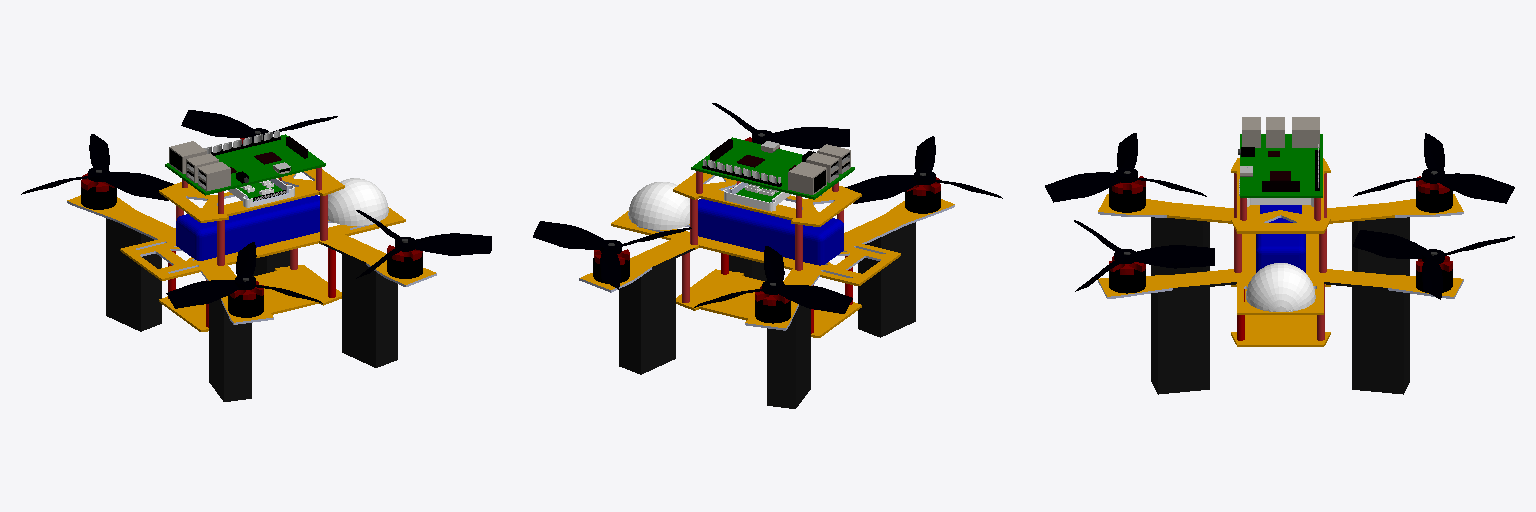
The robot description file, URDF, robot "quadrotor_full":
<?xml version="1.0" ?>
<!-- =================================================================================== -->
<!-- |    This document was autogenerated by xacro from quadrotor.urdf.xacro           | -->
<!-- |    EDITING THIS FILE BY HAND IS NOT RECOMMENDED                                 | -->
<!-- =================================================================================== -->
<robot name="quadrotor_full" xmlns:xacro="http://wiki.ros.org/xacro">
  <!-- Included URDF Files -->
  <!-- Bais link of quadrotor-->
  <link name="base_Link">
    <inertial>
      <origin rpy="1.5708 0 1.5708" xyz="0 0 -0.052"/>
      <mass value="0.7"/>
      <inertia ixx="0.0027947" ixy="0" ixz="0" iyy="0.00278554" iyz="0" izz="0.004656638"/>
    </inertial>
    <visual>
      <origin rpy="1.5708 0 1.5708" xyz="0 0 -0.052"/>
      <geometry>
        <mesh filename="package://quad_description/meshes/quadrotor/base_Link.dae"/>
      </geometry>
    </visual>
    <collision>
      <origin rpy="0 0 0" xyz="0 0 0"/>
      <geometry>
        <mesh filename="package://quad_description/meshes/quadrotor/base_Link.STL"/>
      </geometry>
    </collision>
  </link>
  <!-- Front Right Prop -->
  <link name="FR_Link">
    <inertial>
      <origin rpy="1.5708 0 -0.523599" xyz="-0.003 0 0"/>
      <mass value="0.007"/>
      <inertia ixx="0.00002353" ixy="0" ixz="0" iyy="0.00002353" iyz="0" izz="0.00004706"/>
    </inertial>
    <visual>
      <origin rpy="1.57 0 -0.523599" xyz="-0.003 0 0"/>
      <geometry>
        <mesh filename="package://quad_description/meshes/quadrotor/FR_Link.dae"/>
      </geometry>
    </visual>
    <collision>
      <origin rpy="0 0 0" xyz="0 0 0"/>
      <geometry>
        <mesh filename="package://quad_description/meshes/quadrotor/FR_Link.STL"/>
      </geometry>
    </collision>
  </link>
  <!-- Front Right Joint -->
  <joint name="FR_Joint" type="continuous">
    <origin rpy="0 0 0" xyz="0.0714 -0.1153345227 0.026"/>
    <parent link="base_Link"/>
    <child link="FR_Link"/>
    <axis xyz="0 0 1"/>
  </joint>
  <!-- Back Left Prop -->
  <link name="BL_Link">
    <inertial>
      <origin rpy="1.5708 0 1.0472" xyz="-0.001 -0.003 0"/>
      <mass value="0.007"/>
      <inertia ixx="0.00002353" ixy="0" ixz="0" iyy="0.00002353" iyz="0" izz="0.00004706"/>
    </inertial>
    <visual>
      <origin rpy="1.5708 0 1.0472" xyz="-0.001 -0.003 0"/>
      <geometry>
        <mesh filename="package://quad_description/meshes/quadrotor/BL_Link.dae"/>
      </geometry>
    </visual>
    <collision>
      <origin rpy="0 -1.5708 0" xyz="0 0.003 0"/>
      <geometry>
        <mesh filename="package://quad_description/meshes/quadrotor/BL_Link.STL"/>
      </geometry>
    </collision>
  </link>
  <!-- Back Left Joint -->
  <joint name="BL_Joint" type="continuous">
    <origin rpy="0 0 0" xyz="-0.07161128 0.1148345227 0.026"/>
    <parent link="base_Link"/>
    <child link="BL_Link"/>
    <axis xyz="0 0 1"/>
  </joint>
  <!-- Back Right Prop -->
  <link name="BR_Link">
    <inertial>
      <origin rpy="1.5708 0 1.0472" xyz="-0.002 -0.003 0"/>
      <mass value="0.007"/>
      <inertia ixx="0.00002353" ixy="0" ixz="0" iyy="0.00002353" iyz="0" izz="0.00004706"/>
    </inertial>
    <visual>
      <origin rpy="1.5708 0 1.0472" xyz="-0.002 -0.003 0"/>
      <geometry>
        <mesh filename="package://quad_description/meshes/quadrotor/BR_Link.dae"/>
      </geometry>
    </visual>
    <collision>
      <origin rpy="0 0 0" xyz="0 0 0"/>
      <geometry>
        <mesh filename="package://quad_description/meshes/quadrotor/BR_Link.STL"/>
      </geometry>
    </collision>
  </link>
  <!-- Back Right Joint -->
  <joint name="BR_Joint" type="continuous">
    <origin rpy="0 0 0" xyz="-0.0716112686755679 -0.115430836109892 0.026"/>
    <parent link="base_Link"/>
    <child link="BR_Link"/>
    <axis xyz="0 0 1"/>
  </joint>
  <!-- Front Left Prop -->
  <link name="FL_Link">
    <inertial>
      <origin rpy="1.5708 0 0" xyz="-0.002 -0.001 0"/>
      <mass value="0.007"/>
      <inertia ixx="0.00002353" ixy="0" ixz="0" iyy="0.00002353" iyz="0" izz="0.00004706"/>
    </inertial>
    <visual>
      <origin rpy="1.5708 0 0" xyz="-0.002 -0.001 0"/>
      <geometry>
        <mesh filename="package://quad_description/meshes/quadrotor/FL_Link.dae"/>
      </geometry>
    </visual>
    <collision>
      <origin rpy="1.5708 0 0" xyz="-0.002 -0.001 0"/>
      <geometry>
        <mesh filename="package://quad_description/meshes/quadrotor/FL_Link.STL"/>
      </geometry>
    </collision>
  </link>
  <!-- Front Left Prop -->
  <joint name="FL_Joint" type="continuous">
    <origin rpy="0 0 0" xyz="0.0712 0.114834 0.026"/>
    <parent link="base_Link"/>
    <child link="FL_Link"/>
    <axis xyz="0 0 1"/>
  </joint>
  <!-- IMU, Baro, Magnetic, GPS, Groundtruth sensors -->
  <gazebo>
    <plugin filename="libhector_gazebo_ros_imu.so" name="quadrotor_imu_sim">
      <alwaysOn>true</alwaysOn>
      <updateRate>100.0</updateRate>
      <bodyName>base_Link</bodyName>
      <frameId>quadrotor_base_Link</frameId>
      <topicName>/quadrotor_1/imu</topicName>
      <xyzOffset>0 0 0</xyzOffset>
      <rpyOffset>0 0 0</rpyOffset>
      <gaussianNoise>0</gaussianNoise>
      <!-- deprecated -->
      <accelDrift>0.5 0.5 0.5</accelDrift>
      <accelGaussianNoise>0.35 0.35 0.3</accelGaussianNoise>
      <rateDrift>0.0 0.0 0.0</rateDrift>
      <rateGaussianNoise>0.00 0.00 0.00</rateGaussianNoise>
      <headingDrift>0.0</headingDrift>
      <headingGaussianNoise>0.00</headingGaussianNoise>
    </plugin>
    <plugin filename="libhector_gazebo_ros_baro.so" name="quadrotor_baro_sim">
      <alwaysOn>true</alwaysOn>
      <updateRate>10.0</updateRate>
      <bodyName>base_Link</bodyName>
      <topicName>/quadrotor_1/pressure_height</topicName>
      <altimeterTopicName>altimeter</altimeterTopicName>
      <offset>0</offset>
      <drift>0.1</drift>
      <gaussianNoise>0.5</gaussianNoise>
    </plugin>
    <plugin filename="libhector_gazebo_ros_magnetic.so" name="quadrotor_magnetic_sim">
      <alwaysOn>true</alwaysOn>
      <updateRate>10.0</updateRate>
      <bodyName>base_Link</bodyName>
      <topicName>/quadrotor_1/magnetic</topicName>
      <offset>0 0 0</offset>
      <drift>0.0 0.0 0.0</drift>
      <gaussianNoise>1.3e-2 1.3e-2 1.3e-2</gaussianNoise>
    </plugin>
    <plugin filename="libhector_gazebo_ros_gps.so" name="quadrotor_gps_sim">
      <alwaysOn>true</alwaysOn>
      <updateRate>4.0</updateRate>
      <bodyName>base_Link</bodyName>
      <topicName>/quadrotor_1/fix</topicName>
      <velocityTopicName>/quadrotor_1/fix_velocity</velocityTopicName>
      <drift>5.0 5.0 5.0</drift>
      <gaussianNoise>0.1 0.1 0.1</gaussianNoise>
      <velocityDrift>0 0 0</velocityDrift>
      <velocityGaussianNoise>0.1 0.1 0.1</velocityGaussianNoise>
    </plugin>
    <plugin filename="libgazebo_ros_p3d.so" name="quadrotor_groundtruth_sim">
      <alwaysOn>true</alwaysOn>
      <updateRate>100.0</updateRate>
      <bodyName>base_Link</bodyName>
      <topicName>/quadrotor_1/ground_truth/state</topicName>
      <gaussianNoise>0.0</gaussianNoise>
      <frameName>map</frameName>
    </plugin>
  </gazebo>
  <!-- 4D velocity control -->
  <!-- Quadrotor Simple Controller Plugin -->
  <gazebo>
    <plugin filename="[local-path]/quad_ws/src/quad_control/plugins/build/libQuadrotor_Plugin.so" name="quadrotor_plugin_force_torque"/>
  </gazebo>
  <joint name="sonar_joint" type="fixed">
    <origin rpy="0 1.57079632679 0" xyz="-0.045 0.0 -0.052"/>
    <parent link="base_Link"/>
    <child link="sonar_link"/>
  </joint>
  <link name="sonar_link">
    <inertial>
      <mass value="0.001"/>
      <origin rpy="0 0 0" xyz="0 0 0"/>
      <inertia ixx="0.000000017" ixy="0" ixz="0" iyy="0.000000017" iyz="0" izz="0.000000017"/>
    </inertial>
    <visual>
      <origin rpy="0 0 0" xyz="0 0 0"/>
      <geometry>
        <!--<box size="0.01 0.01 0.01" /> -->
        <mesh filename="package://quad_description/meshes/sonar_sensor/max_sonar_ez4.dae"/>
      </geometry>
    </visual>
    <collision>
      <origin rpy="0 0 0" xyz="0 0 0"/>
      <geometry>
        <box size="0.01 0.01 0.01"/>
      </geometry>
    </collision>
  </link>
  <gazebo reference="sonar_link">
    <sensor name="sonar" type="ray">
      <update_rate>10</update_rate>
      <ray>
        <range>
          <min>0.01</min>
          <max>3.0</max>
          <resolution>0.01</resolution>
        </range>
        <scan>
          <horizontal>
            <samples>3</samples>
            <min_angle>-0.349065850399</min_angle>
            <max_angle>0.349065850399</max_angle>
          </horizontal>
          <vertical>
            <samples>3</samples>
            <min_angle>-0.349065850399</min_angle>
            <max_angle>0.349065850399</max_angle>
          </vertical>
        </scan>
      </ray>
      <plugin filename="libhector_gazebo_ros_sonar.so" name="gazebo_ros_sonar_controller">
        <gaussianNoise>0.000</gaussianNoise>
        <topicName>/quadrotor_1/sonar_height</topicName>
        <frameId>sonar_link</frameId>
      </plugin>
    </sensor>
  </gazebo>
  <!-- Hokuyo UTM-30LX mounted upside down below the quadrotor body -->
  <!--
    <xacro:include filename="$(find quad_description)/urdf/sensors/hokuyo_utm30lx.urdf.xacro" />
    <xacro:hokuyo_utm30lx name="laser0" robot_name="${robot_name}" parent="base_Link" ros_topic="scan" update_rate="40" ray_count="1081" min_angle="135" max_angle="-135">
      <origin xyz="0.0 0.0 0.08" rpy="${M_PI} 0 0"/>
    </xacro:hokuyo_utm30lx>
-->
  <!-- Forward facing camera -->
  <!--
    <xacro:include filename="$(find quad_description)/urdf/sensors/generic_camera.urdf.xacro" />
    <xacro:generic_camera name="front" robot_name="${robot_name}" parent="base_link" update_rate="60" res_x="640" res_y="360" image_format="R8G8B8" hfov="${81*M_PI/180}">
      <origin xyz="0.21 0.0 0.01" rpy="0 0 0"/>
    </xacro:generic_camera>
-->
  <joint name="bottom_joint" type="fixed">
    <origin rpy="0 1.57079632679 0" xyz="0.0 0.0 -0.057"/>
    <parent link="base_Link"/>
    <child link="bottom_link"/>
  </joint>
  <link name="bottom_link">
    <inertial>
      <mass value="0.001"/>
      <origin rpy="0 0 0" xyz="0 0 0"/>
      <inertia ixx="0.0001" ixy="0" ixz="0" iyy="0.0001" iyz="0" izz="0.0001"/>
    </inertial>
    <visual>
      <origin rpy="0 0 0" xyz="0 0 0"/>
      <geometry>
        <box size="0.01 0.01 0.01"/>
      </geometry>
      <material name="Blue">
        <color rgba="0.0 0.0 0.8 1"/>
      </material>
    </visual>
    <collision>
      <origin rpy="0 0 0" xyz="0 0 0"/>
      <geometry>
        <box size="0.01 0.01 0.01"/>
      </geometry>
    </collision>
  </link>
  <joint name="bottom_optical_joint" type="fixed">
    <origin rpy="-1.57079632679 0.0 -1.57079632679" xyz="0 0 0"/>
    <parent link="bottom_link"/>
    <child link="ardrone_base_bottomcam"/>
  </joint>
  <link name="ardrone_base_bottomcam">
    <inertial>
      <mass value="0.01"/>
      <origin xyz="0 0 0"/>
      <inertia ixx="0.001" ixy="0.0" ixz="0.0" iyy="0.001" iyz="0.0" izz="0.001"/>
    </inertial>
    <visual>
      <origin rpy="0 0 0" xyz="0 0 0"/>
      <geometry>
        <box size="0.001 0.001 0.001"/>
      </geometry>
    </visual>
    <collision>
      <origin rpy="0 0 0" xyz="0 0 0"/>
      <geometry>
        <box size="0.001 0.001 0.001"/>
      </geometry>
    </collision>
  </link>
  <gazebo reference="bottom_link">
    <sensor name="bottom_camera_sensor" type="camera">
      <update_rate>25</update_rate>
      <camera name="head">
        <horizontal_fov>1.41371669412</horizontal_fov>
        <image>
          <width>320</width>
          <height>240</height>
          <format>R8G8B8</format>
        </image>
        <clip>
          0.01
	      
          <near>0.01</near>
          <far>100</far>
        </clip>
      </camera>
      <plugin filename="libgazebo_ros_camera.so" name="bottom_camera_controller">
        <robotNamespace>quadrotor_1</robotNamespace>
        <cameraName>bottom</cameraName>
        <alwaysOn>true</alwaysOn>
        <updateRate>25</updateRate>
        <imageTopicName>image_raw</imageTopicName>
        <cameraInfoTopicName>camera_info</cameraInfoTopicName>
        <frameName>ardrone_base_bottomcam</frameName>
      </plugin>
    </sensor>
    <!--<turnGravityOff>true</turnGravityOff>-->
    <material>PR2/Blue</material>
  </gazebo>
</robot>

--- What the picture shows (computed from the rendered views, not written in the file) ---
3 views of the same robot in one strip: view 1: azimuth 30°, elevation 25°; view 2: azimuth 150°, elevation 25°; view 3: azimuth 270°, elevation 25° (orthographic).
Model quadrotor_full with 8 links and 7 joints (4 continuous, 3 fixed), rooted at base_Link, posed every joint at zero.
Visible links, largest first — view 1: base_Link, BR_Link, BL_Link, FR_Link, FL_Link; view 2: base_Link, FL_Link, BL_Link, BR_Link, FR_Link; view 3: base_Link, FL_Link, BR_Link, BL_Link, FR_Link.
Link boxes in pixels (<box>): base_Link: <box>67,130,436,401</box>; BR_Link: <box>166,242,322,308</box>; BL_Link: <box>21,134,173,200</box>; FR_Link: <box>356,210,491,278</box>; FL_Link: <box>181,110,337,141</box>; base_Link: <box>579,133,954,408</box>; FL_Link: <box>533,221,691,289</box>; BL_Link: <box>694,246,852,313</box>; BR_Link: <box>845,136,1002,203</box>; FR_Link: <box>712,103,849,149</box>; base_Link: <box>1098,117,1463,394</box>; FL_Link: <box>1353,230,1514,299</box>; BR_Link: <box>1045,133,1206,202</box>; BL_Link: <box>1353,133,1514,203</box>; FR_Link: <box>1074,220,1214,291</box>.
Size in the robot's own frame: 0.2788 by 0.3532 by 0.166 metres.
5 mesh visuals loaded from 6 distinct referenced files (5 Collada DAE); not drawn: 1 (reference not matched to a file when rendering).
